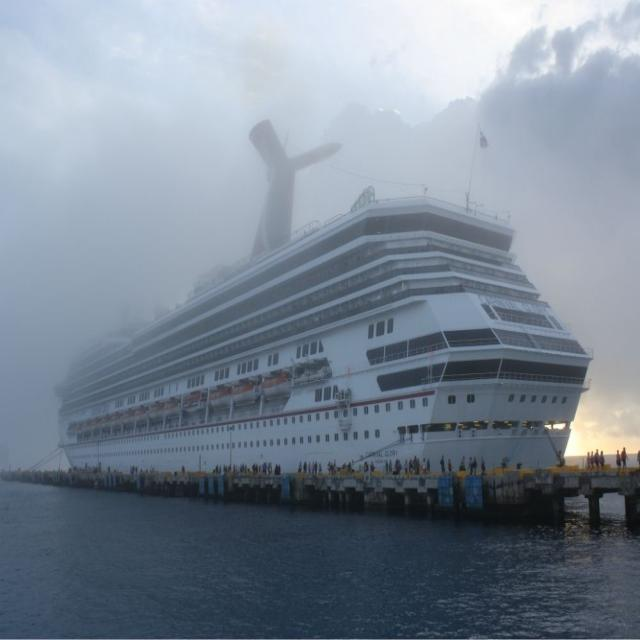passenger ship: (51, 179, 589, 499)
